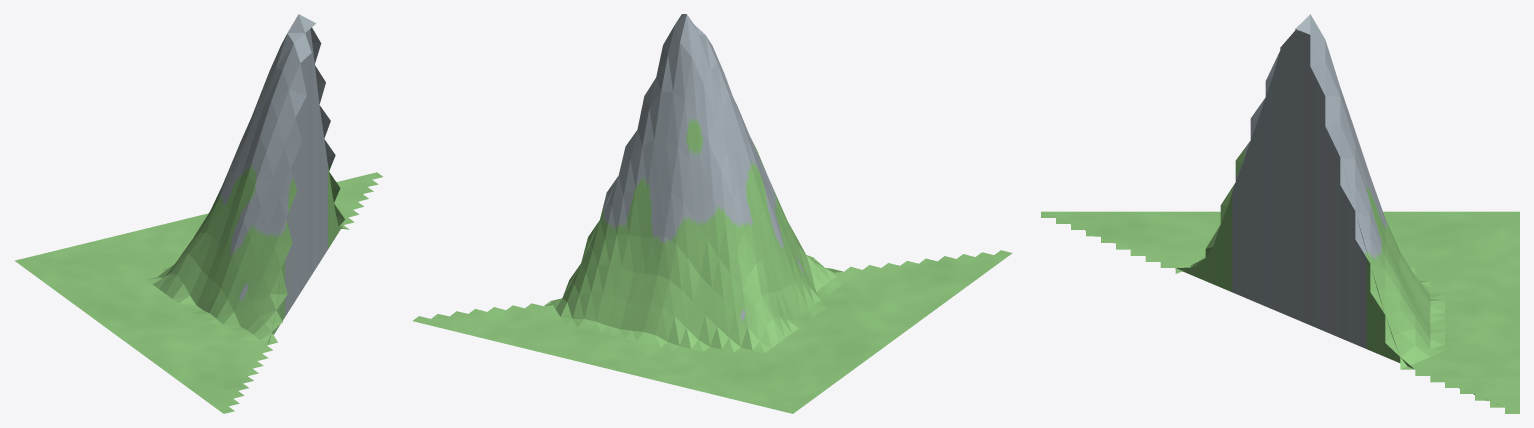
Rendered from Grass_RockyMountains_07_SW.obj.
The picture shows the model from 3 angles, left to right: view 1: azimuth 30°, elevation 25°; view 2: azimuth 150°, elevation 25°; view 3: azimuth 270°, elevation 25°; orthographic projection. The views are drawn at different scales.
Size of the model in its own units: 10 by 7.03 by 10.
1 material, 1 textured.
